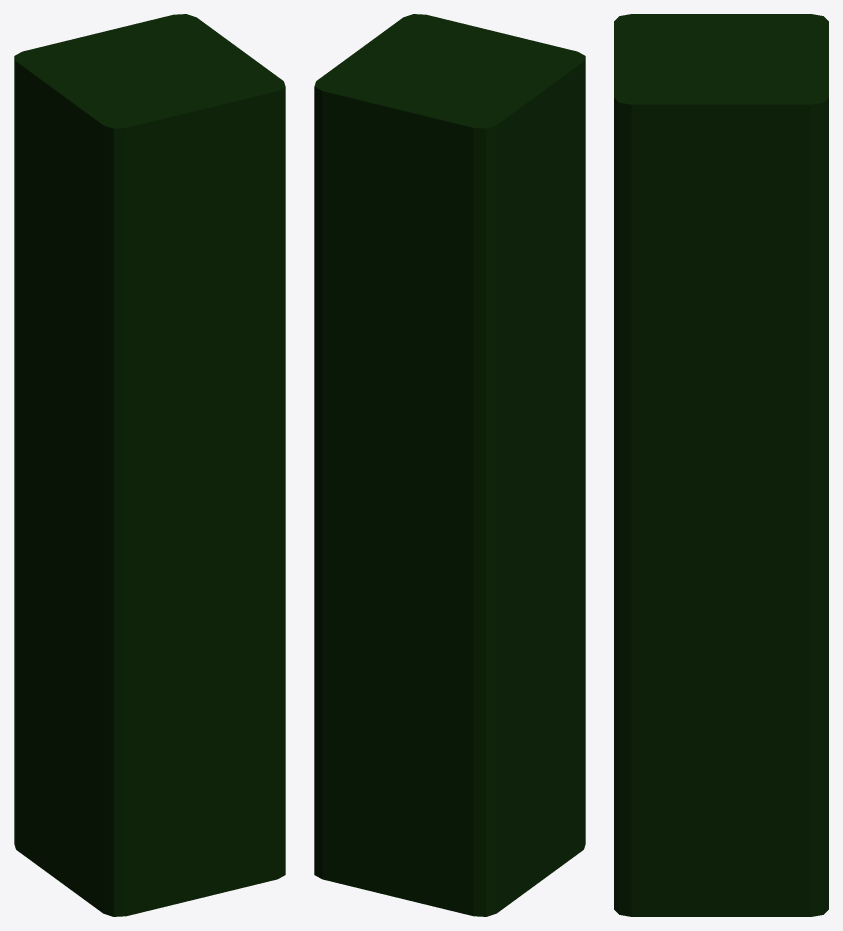
Rendered from tower4.fbx.
The picture shows the model from 3 angles, left to right: view 1: azimuth 30°, elevation 25°; view 2: azimuth 150°, elevation 25°; view 3: azimuth 270°, elevation 25°; orthographic projection. The views are drawn at different scales.
Parts seen in each view (by area): view 1: tower4; view 2: tower4; view 3: tower4.
Boxes of the visible parts, x1=… form: tower4: x1=14, y1=14, x2=285, y2=916; tower4: x1=314, y1=14, x2=585, y2=916; tower4: x1=614, y1=14, x2=828, y2=916.
Size of the model in its own units: 1.54 by 6.43 by 1.54.
